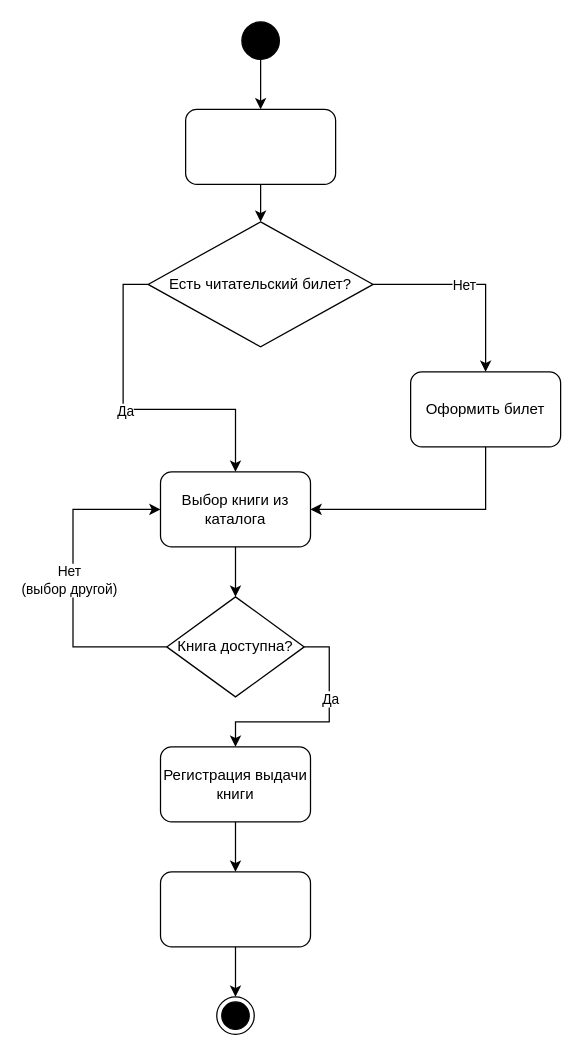
This 583x1056 diagram has some shape labels left out. Each missing label, with the centre of its shape:
"Получение книги" belongs at (234,909).
"Приход в библиотеку" belongs at (260,146).
